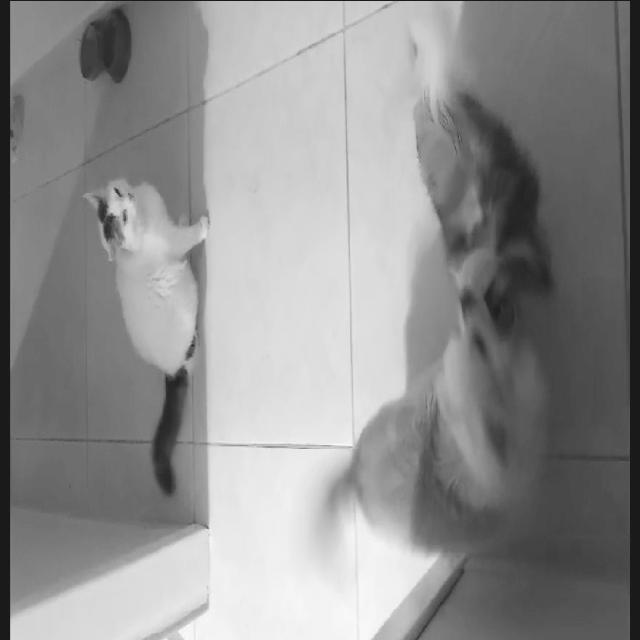Simba: (370, 1, 556, 364)
Theo: (287, 234, 541, 604)
